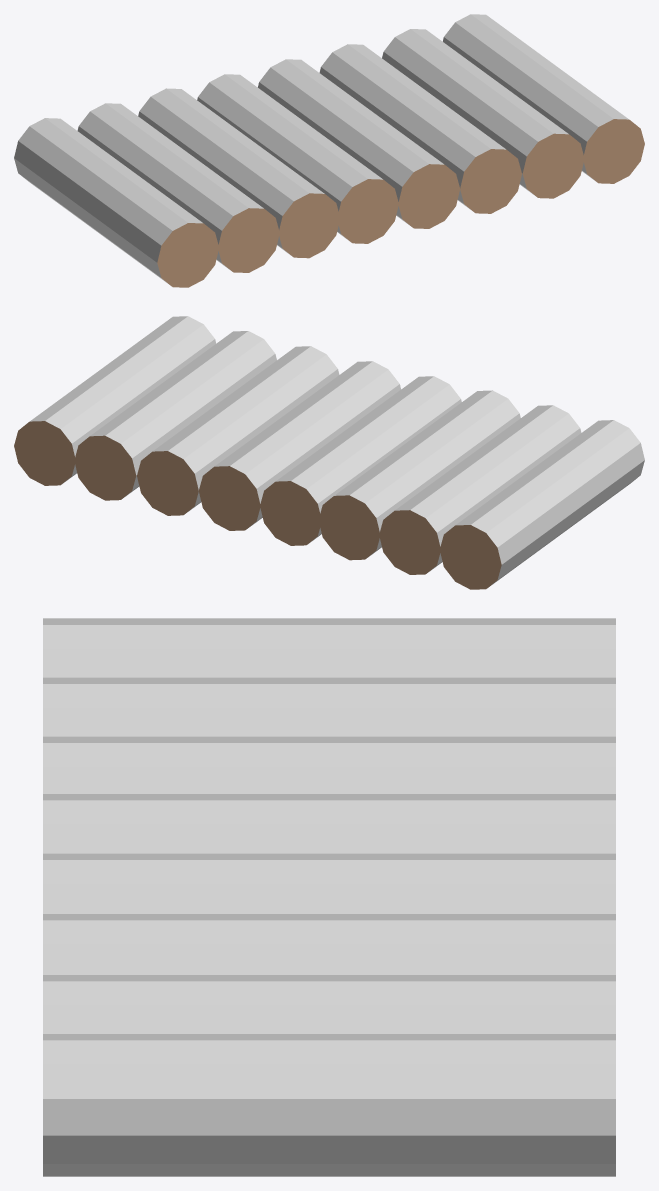
The model's file is logPlatform(2x4).fbx.
3 views of the same model, one above another, from view 1: azimuth 30°, elevation 25°; view 2: azimuth 150°, elevation 25°; view 3: azimuth 270°, elevation 25° (orthographic). The views are drawn at different scales.
Visible parts, largest first — view 1: logPlatform; view 2: logPlatform; view 3: logPlatform.
Boxes of the visible parts, x1=… form: logPlatform: x1=14, y1=14, x2=644, y2=287; logPlatform: x1=14, y1=316, x2=644, y2=589; logPlatform: x1=43, y1=618, x2=615, y2=1176.
Size of the model in its own units: 393 by 50 by 200.
